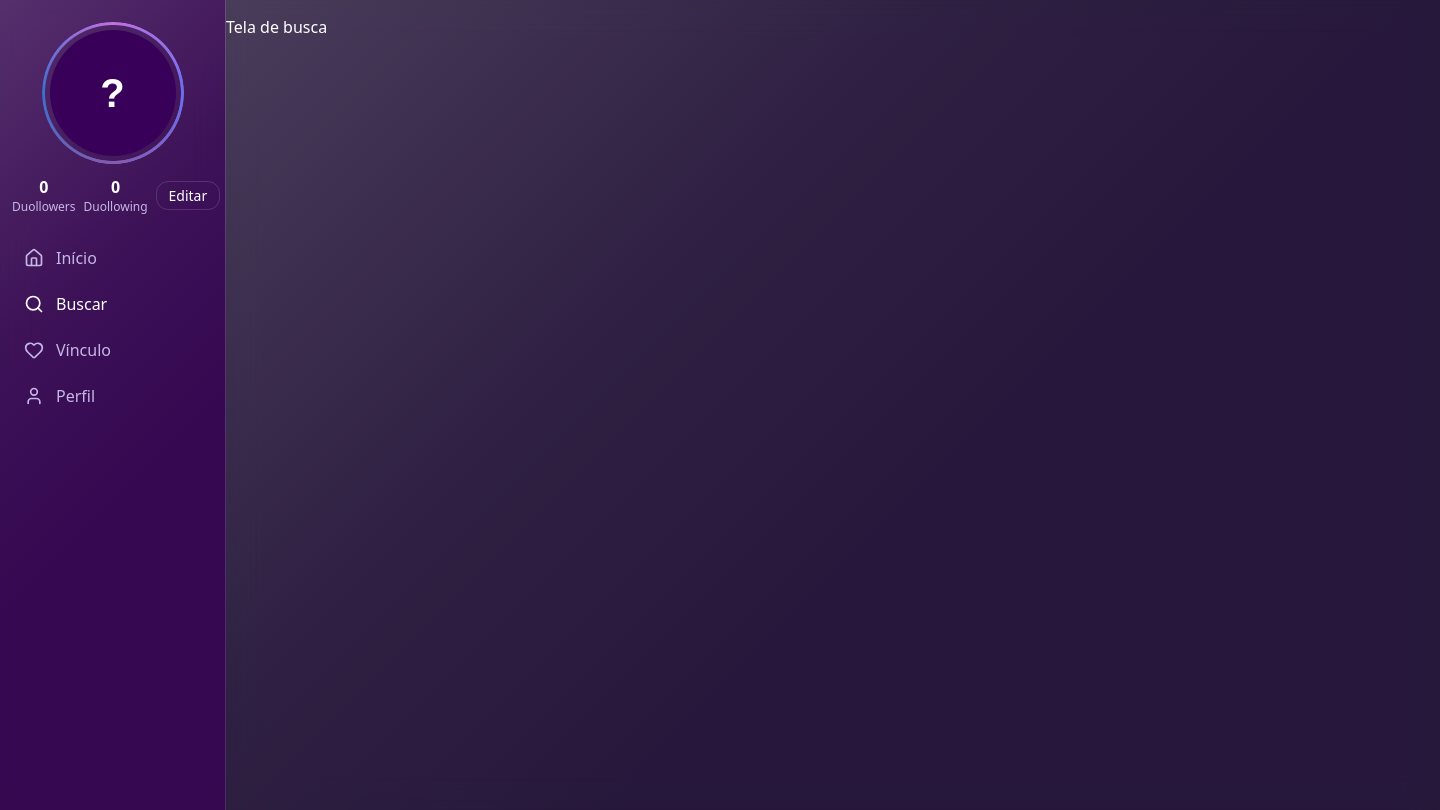
AppLayout › "Editar" e "Perfil" abrem o modal de editar perfil por cima da tela atual
The width and height of the screenshot is (1440, 810).
Click the button "Editar" at (188, 196), box [156, 181, 220, 210]
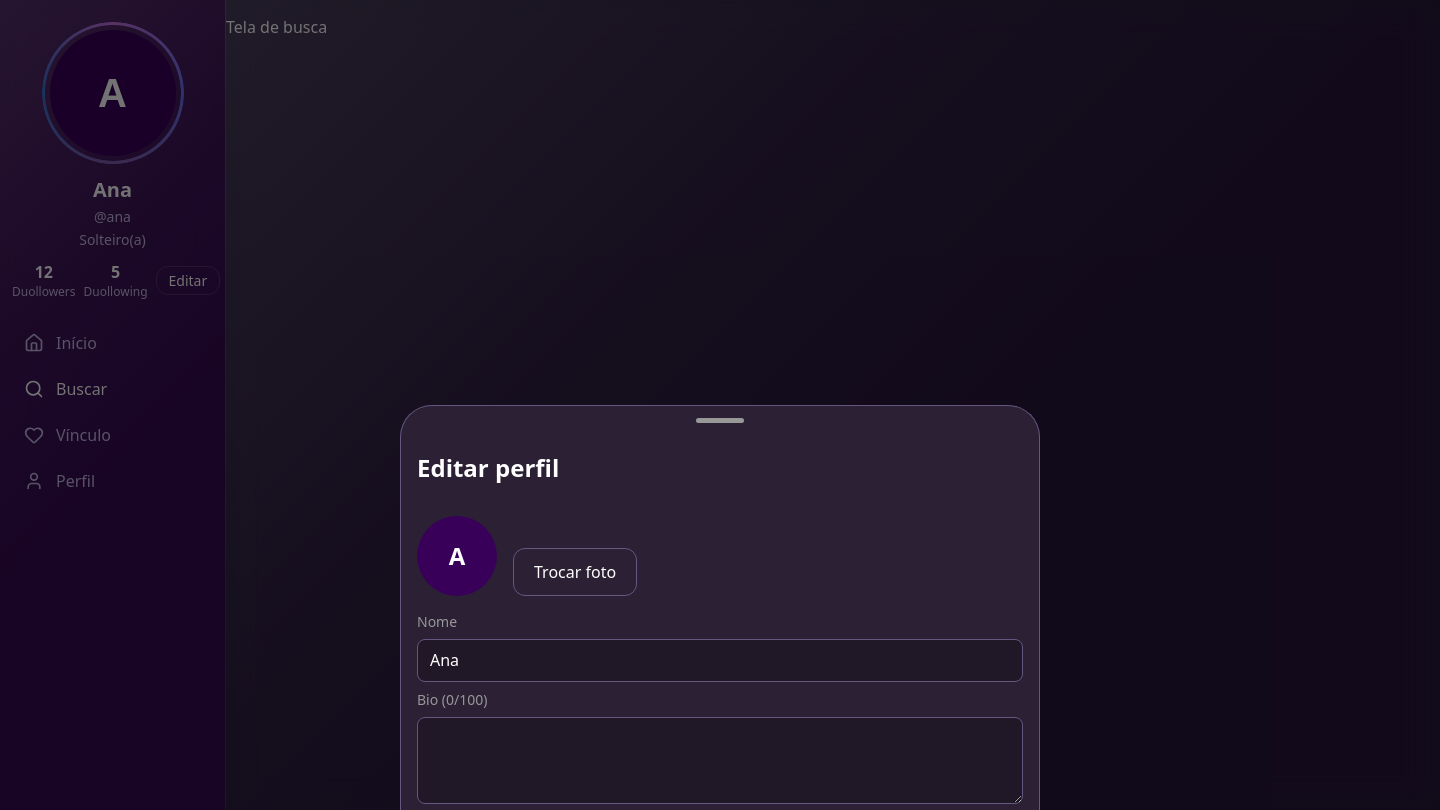
Expected: the text "Tela de busca" is shown, [226, 16, 327, 38]
Now the dialog "Editar perfil" is shown, box [400, 405, 1040, 809]
Press Escape
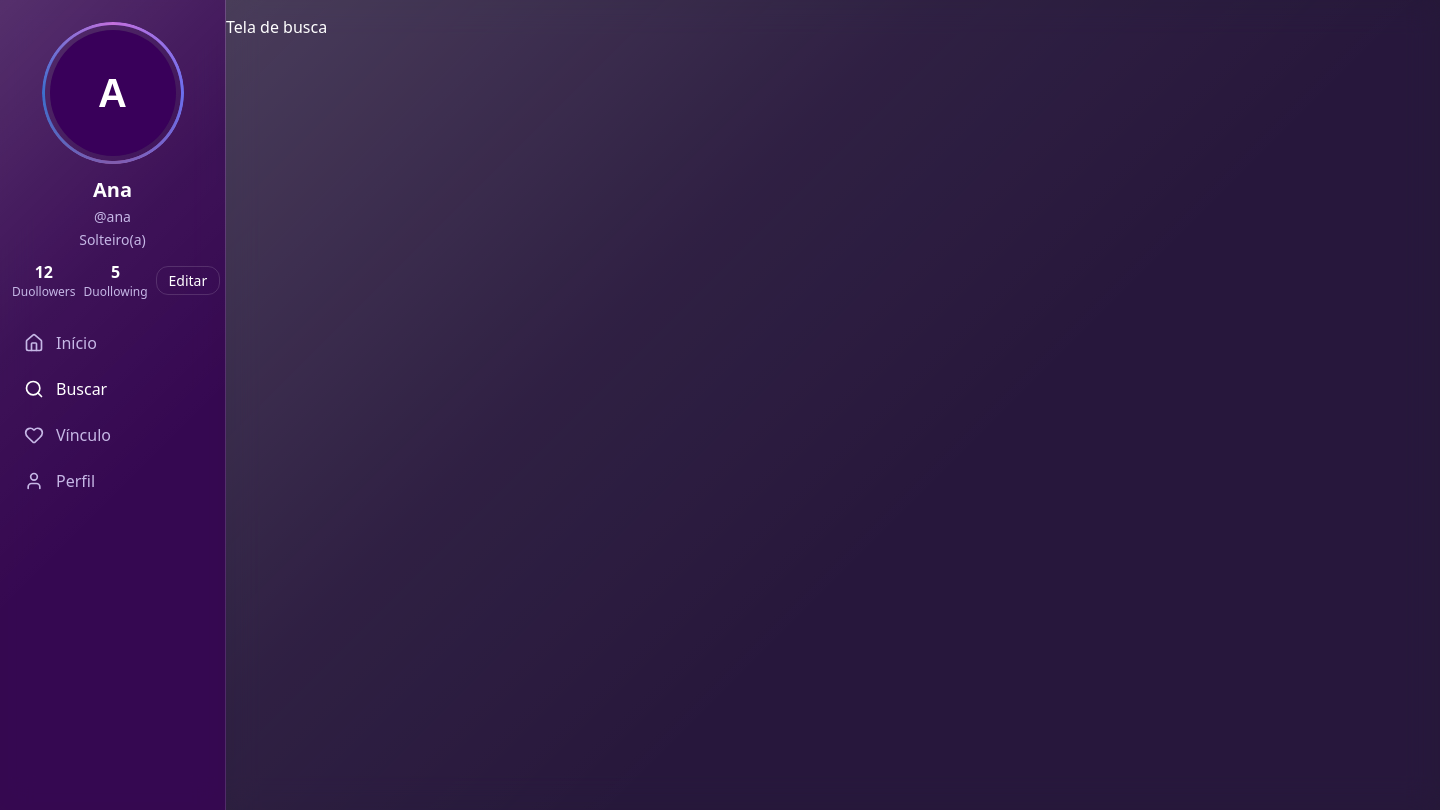
Now the dialog is gone
Click the button "Perfil" at (112, 481), box [12, 462, 213, 500]
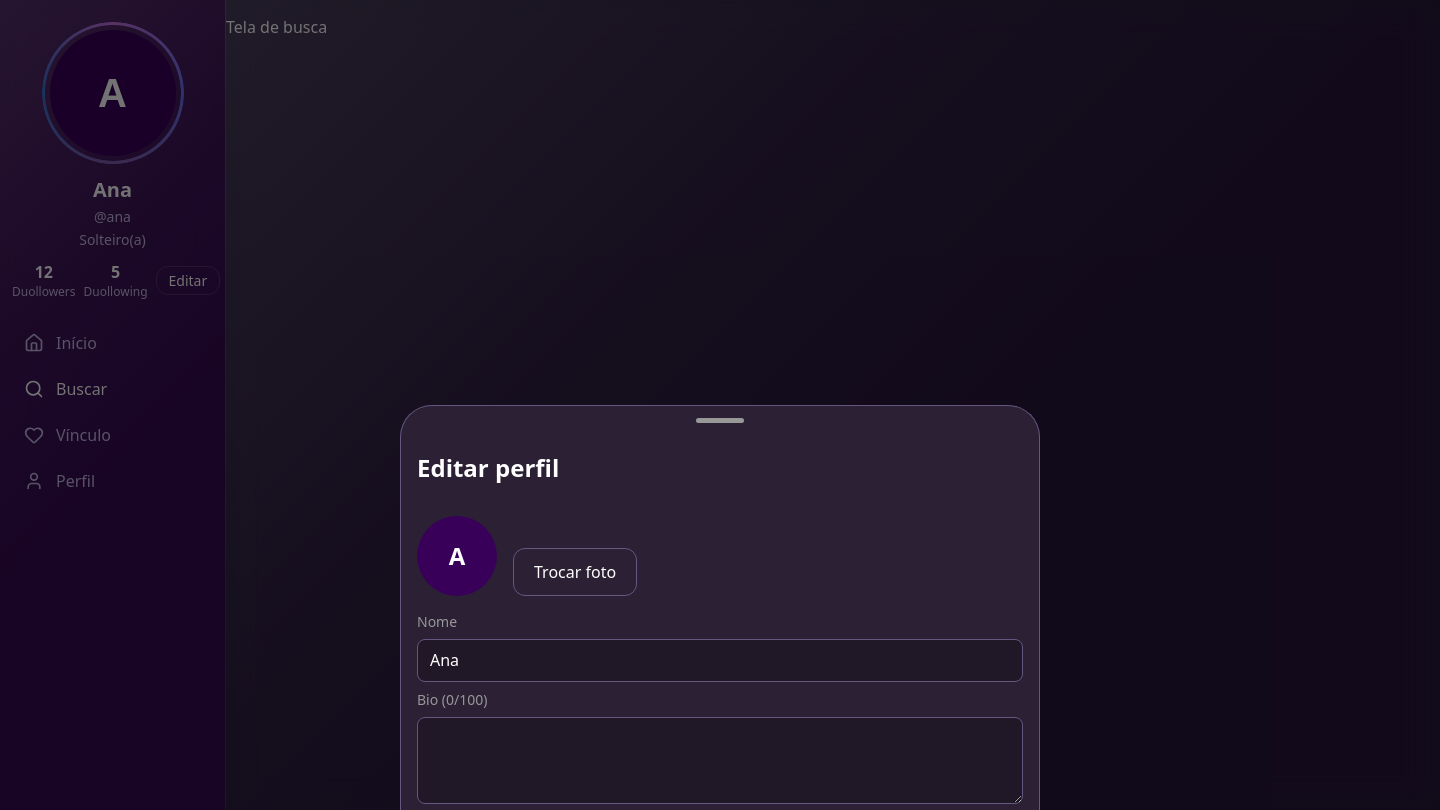
Now the dialog "Editar perfil" is shown, box [400, 405, 1040, 809]
